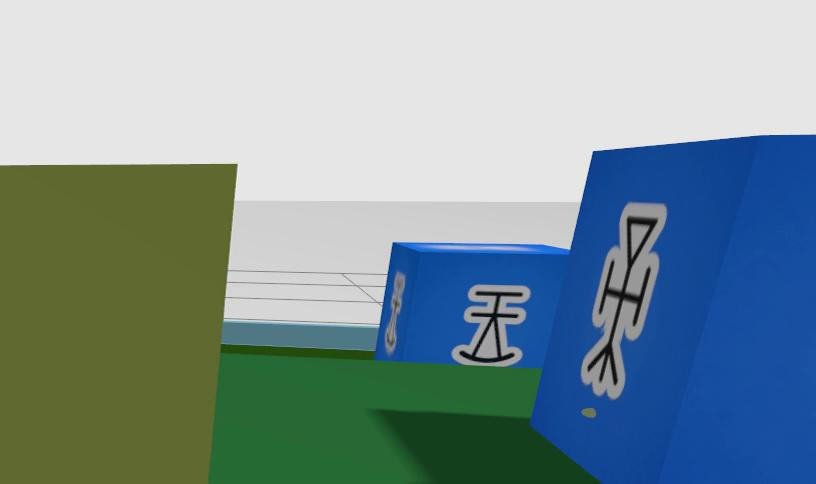KFS_REAL: (531, 135, 815, 484), (376, 243, 568, 367), (580, 203, 666, 399), (453, 284, 529, 366)
